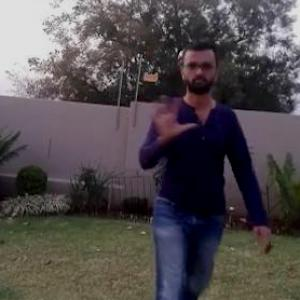follow_hand: (148, 90, 198, 144)
